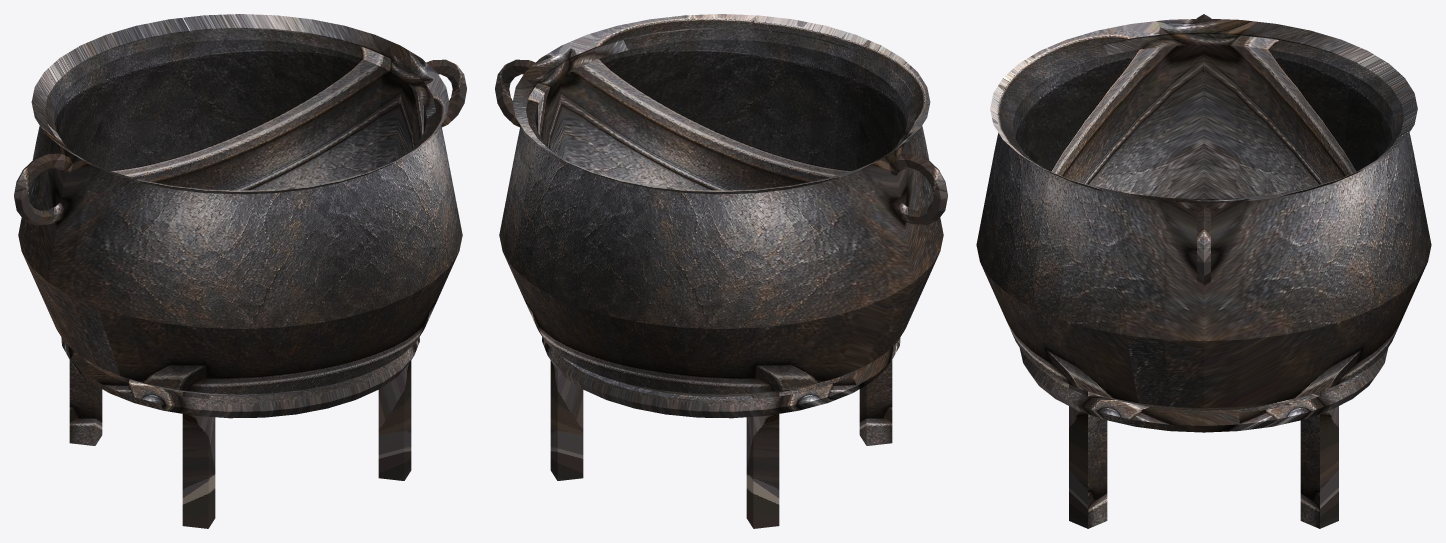
File: v3-kitchen-cauldron.glb
3 renders of one model, left to right at view 1: azimuth 30°, elevation 25°; view 2: azimuth 150°, elevation 25°; view 3: azimuth 270°, elevation 25°, orthographic. The views are drawn at different scales.
Parts seen in each view (by area): view 1: v3-kitchen-cauldron; view 2: v3-kitchen-cauldron; view 3: v3-kitchen-cauldron.
Part boxes in pixels (bbox=[...]): v3-kitchen-cauldron: bbox=[14, 14, 466, 528]; v3-kitchen-cauldron: bbox=[495, 14, 947, 528]; v3-kitchen-cauldron: bbox=[976, 14, 1431, 528].
Bounding box in the file's own units: 1.18 × 0.88 × 1.
Materials: 1 (1 with a texture image).
